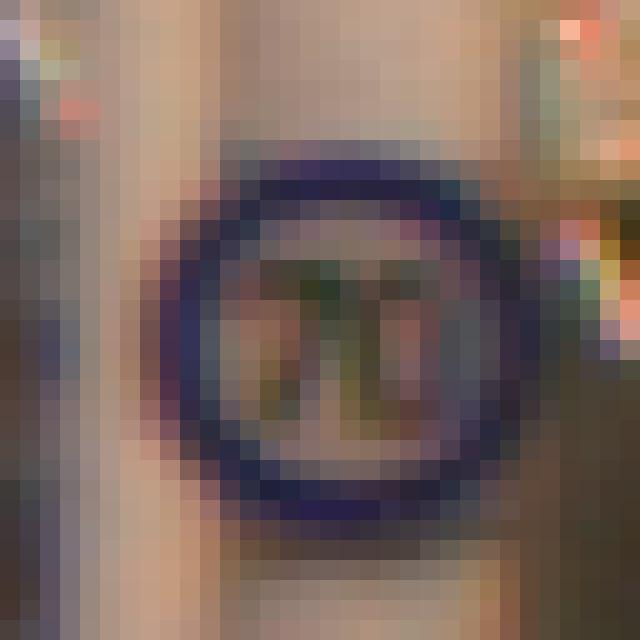SPEED LIMIT 70: (138, 156, 556, 550)
